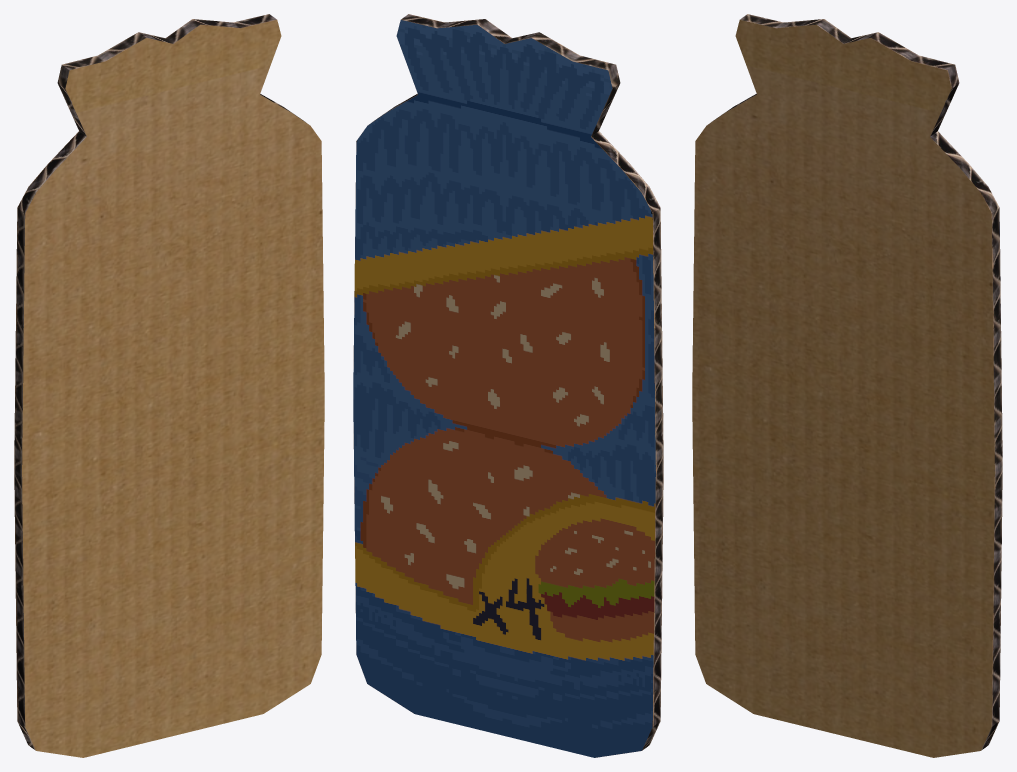
File: PAN DE HAMBURGUESA.glb
The picture shows the model from 3 angles, left to right: view 1: azimuth 30°, elevation 25°; view 2: azimuth 150°, elevation 25°; view 3: azimuth 330°, elevation 25°; orthographic projection.
Visible parts, largest first — view 1: PAN DE HAMBURGUESA; view 2: PAN DE HAMBURGUESA; view 3: PAN DE HAMBURGUESA.
Part boxes in pixels (x1=…): PAN DE HAMBURGUESA: x1=14, y1=14, x2=324, y2=757; PAN DE HAMBURGUESA: x1=353, y1=14, x2=663, y2=757; PAN DE HAMBURGUESA: x1=692, y1=14, x2=1002, y2=757.
Size of the model in its own units: 1.99 by 4.43 by 0.09.
Materials: 1 (1 with a texture image).
